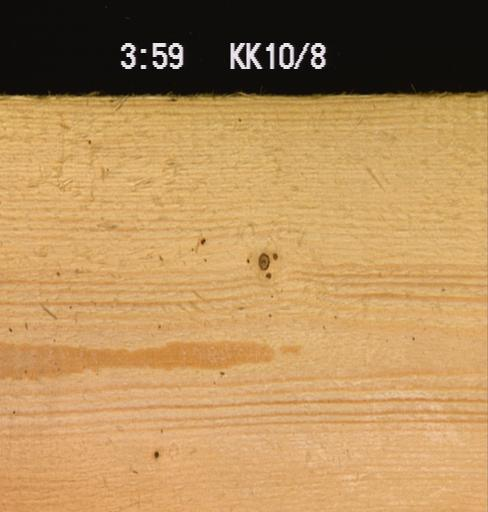dry_knot: (255, 250, 270, 270)
small_knot: (150, 448, 160, 460), (261, 272, 275, 280), (197, 235, 205, 247)
